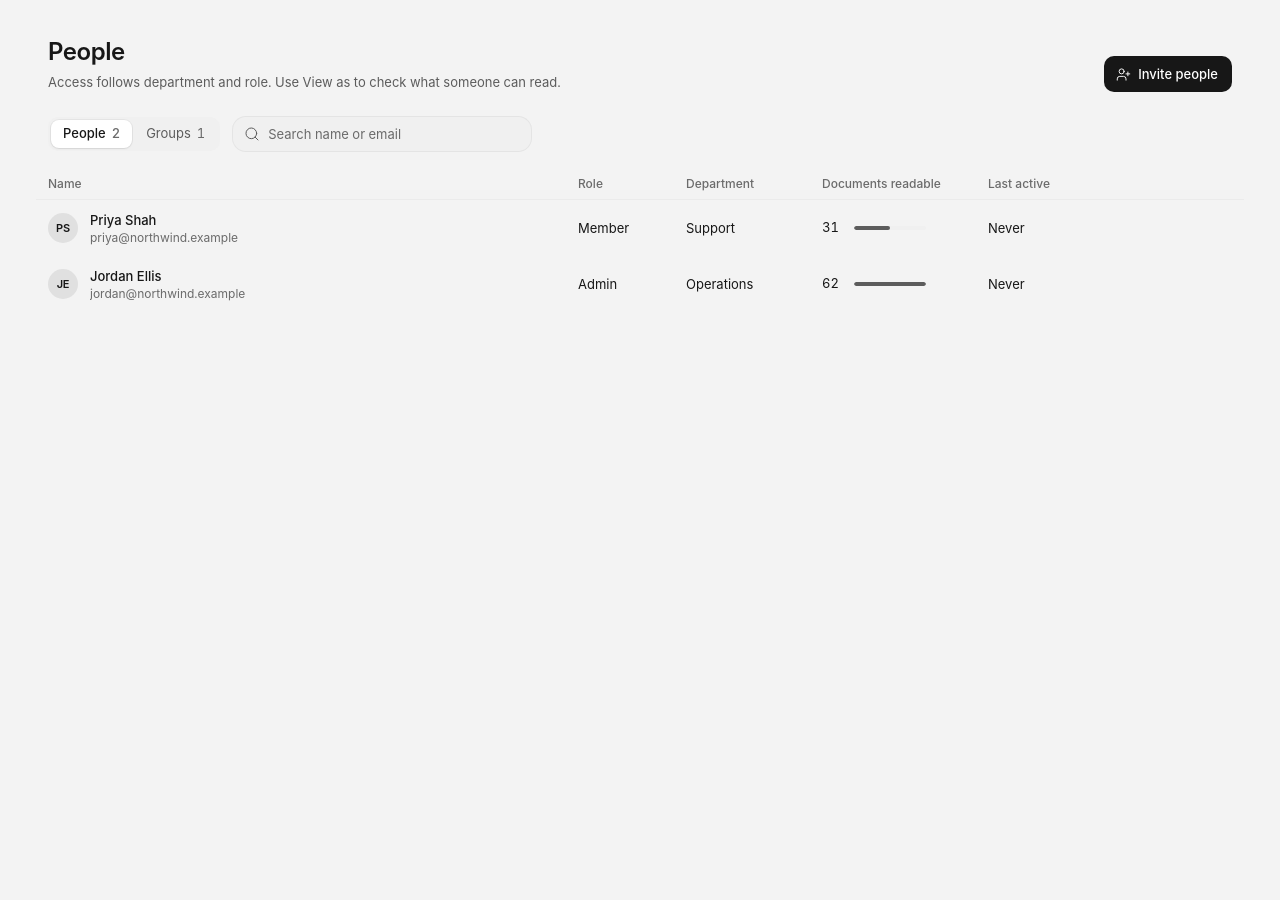
Test: PeopleWorkspace › ignores an invite response that arrives after the dialog was closed
This screenshot has width=1280, height=900.
Click the button "Invite people".
click(1168, 74)  # box [1104,56,1232,92]
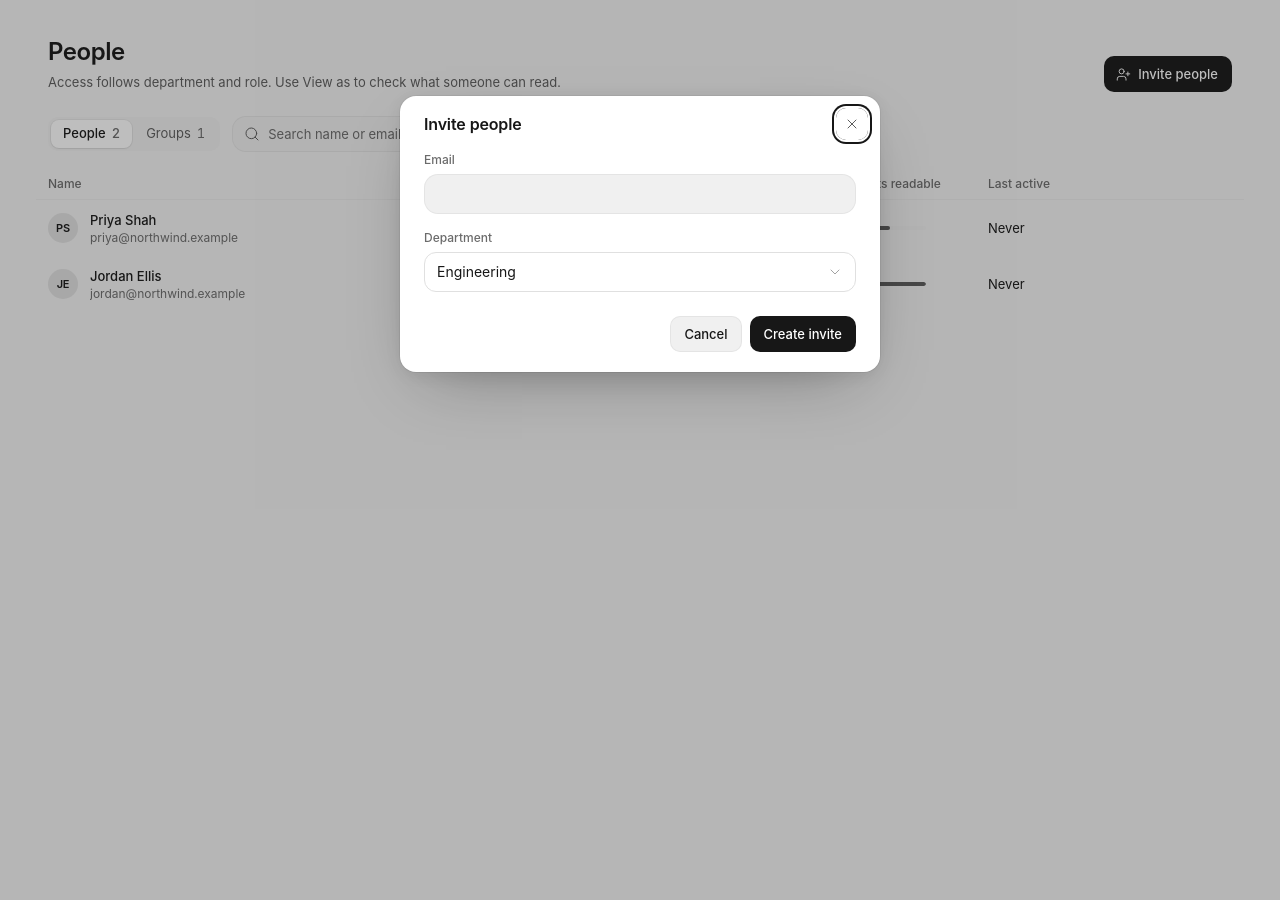
Type "new@northwind.example" into the field labelled "Email".
click(640, 194); type("new@northwind.example")  # box [436,174,844,214]
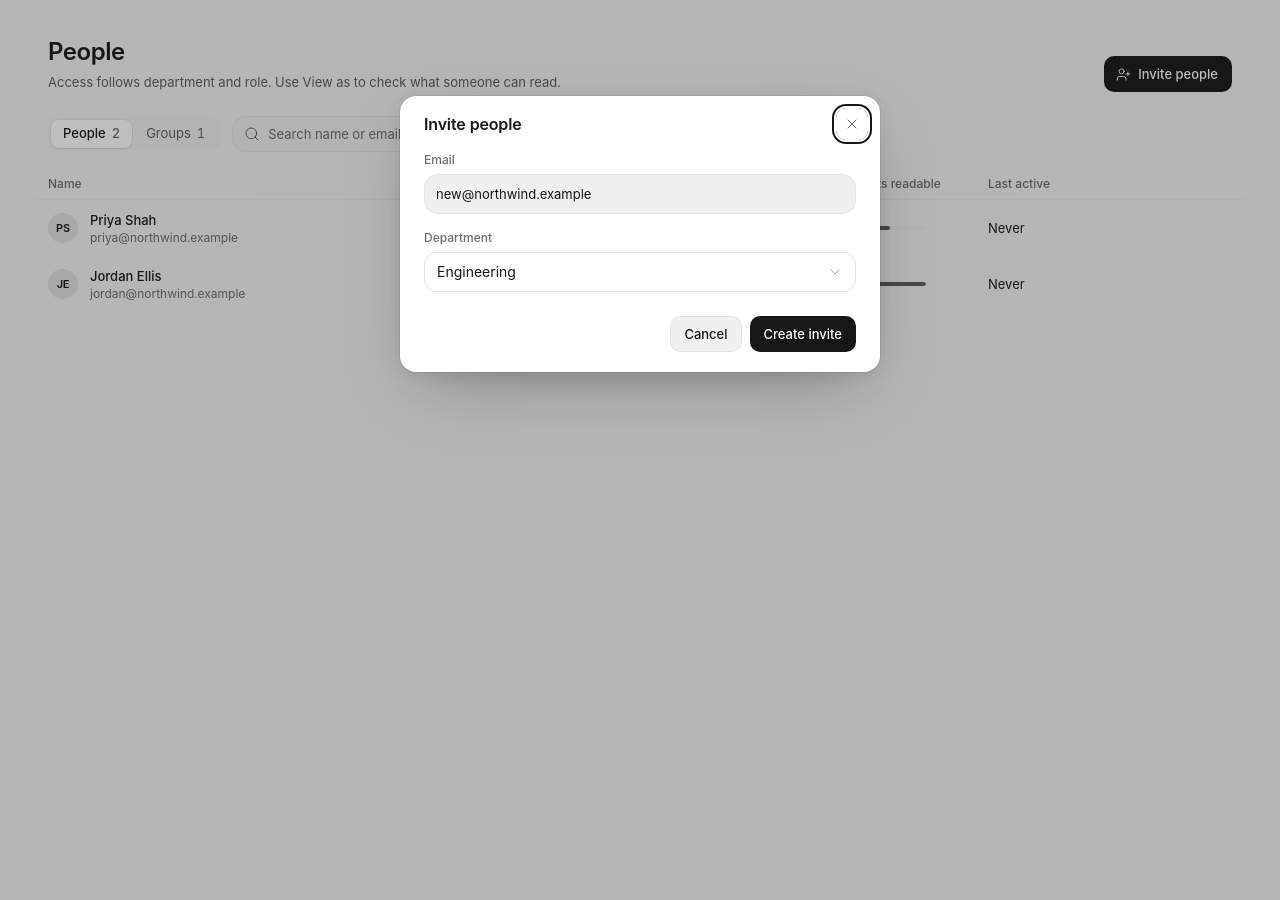
Click the button "Create invite".
click(803, 334)  # box [750,316,856,352]
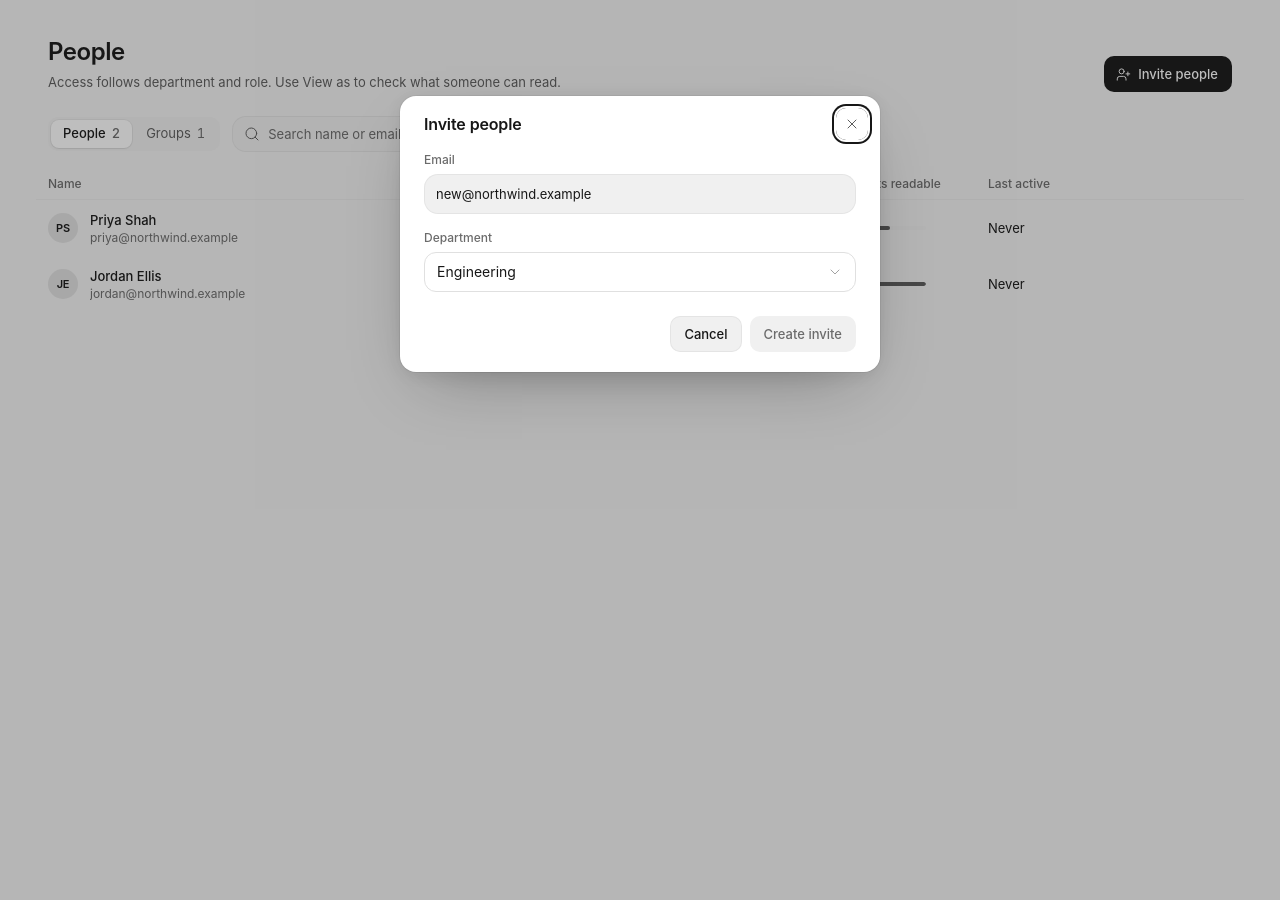
Click the button named "Close".
click(852, 124)  # box [836,108,868,140]
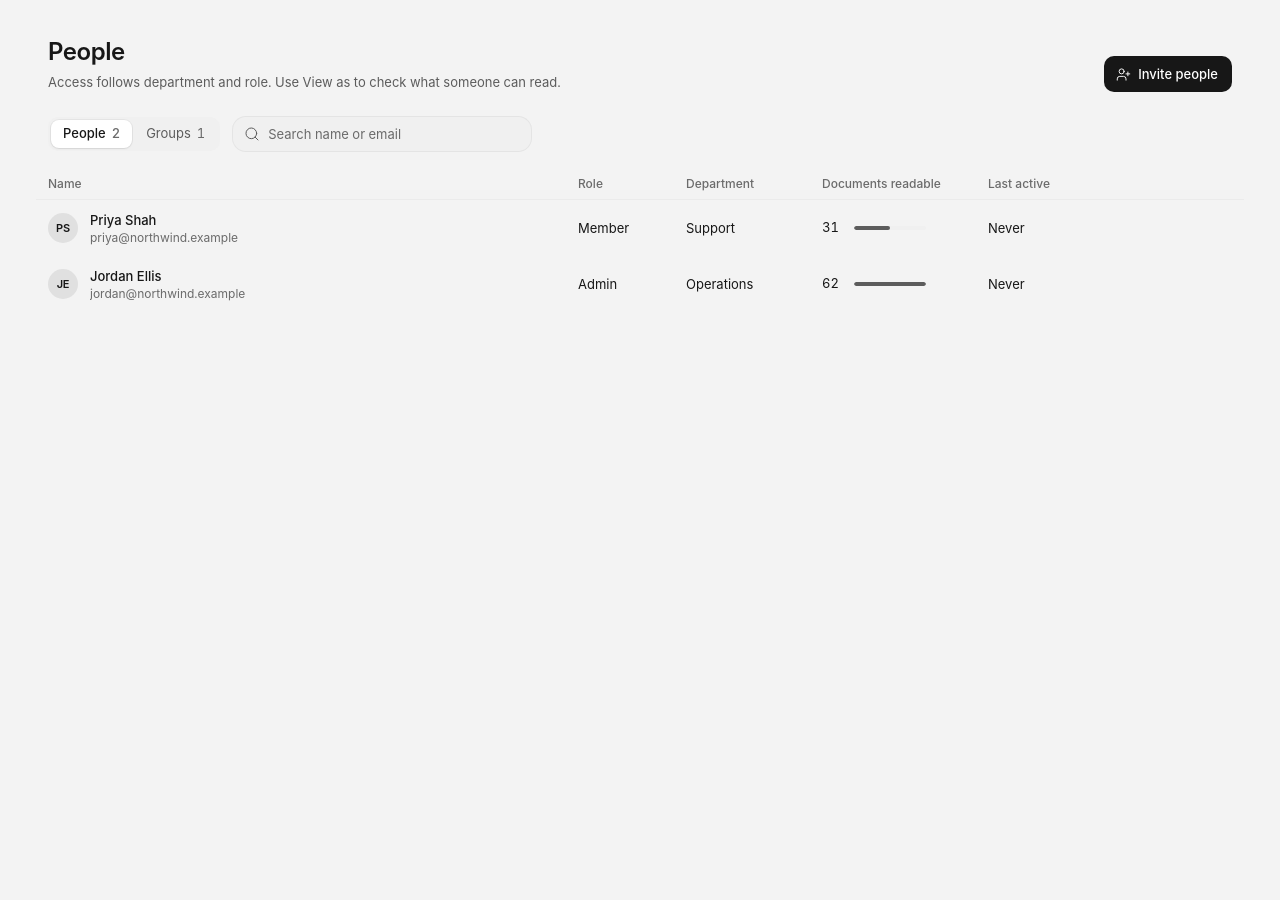
Click the button "Invite people".
click(1168, 74)  # box [1104,56,1232,92]
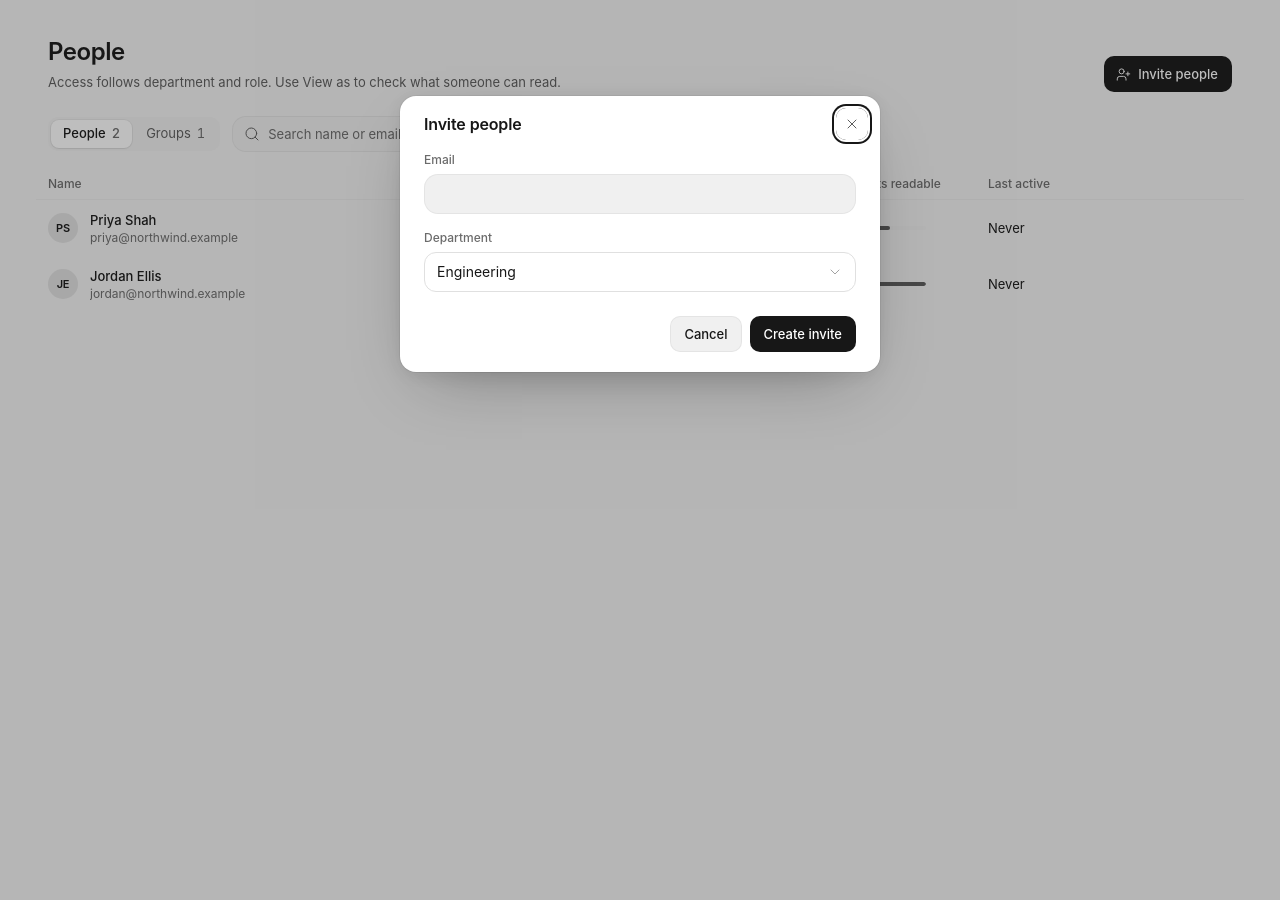
Check: the field labelled "Email" is shown, box [436,174,844,214]
